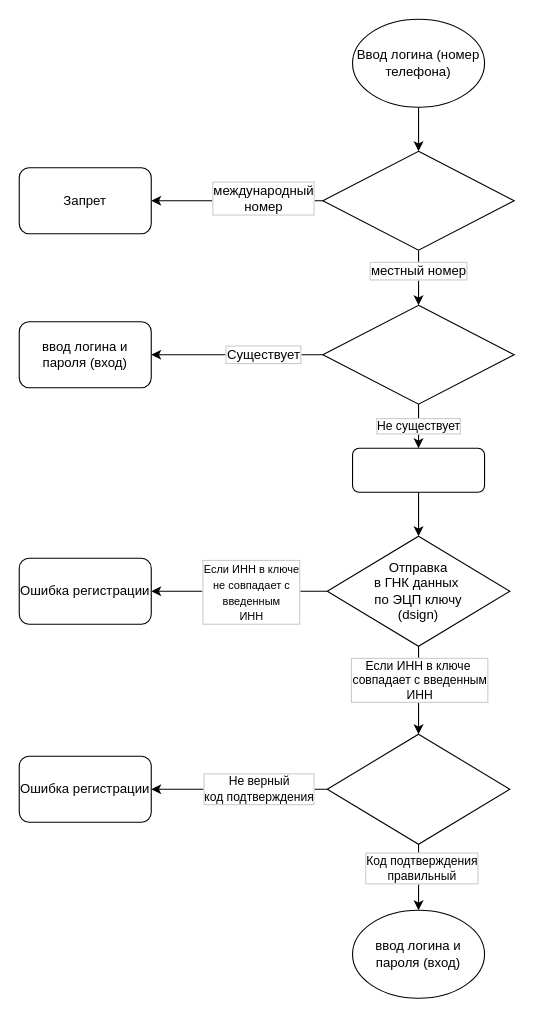
This 534x1018 diagram has some shape labels left out. The shapes that lost their labels are listed below. From the top down, each one's centre as x and y in pixels, then its label:
point 418,200: проверка номера на "международность"
point 418,354: проверка по базе
point 418,469: Регистрация
point 418,788: СМС подтверждение
